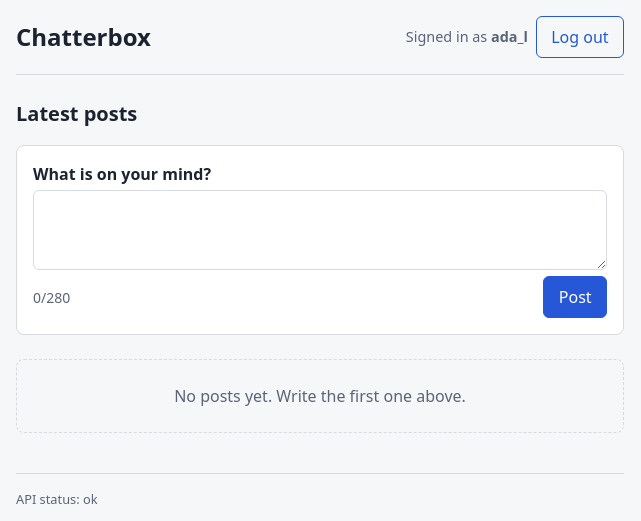
Scenario: Composer › AT-P9: the counter counts characters, so an emoji is one
Type "🙂🙂🙂" into the text box labelled "What is on your mind?" at (320, 230), box [33,190,607,270]
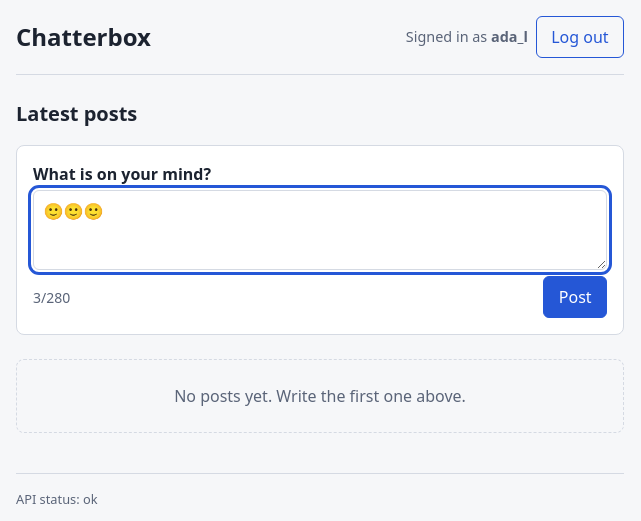
Check: the text "3/280" is shown, box [33,286,70,308]
